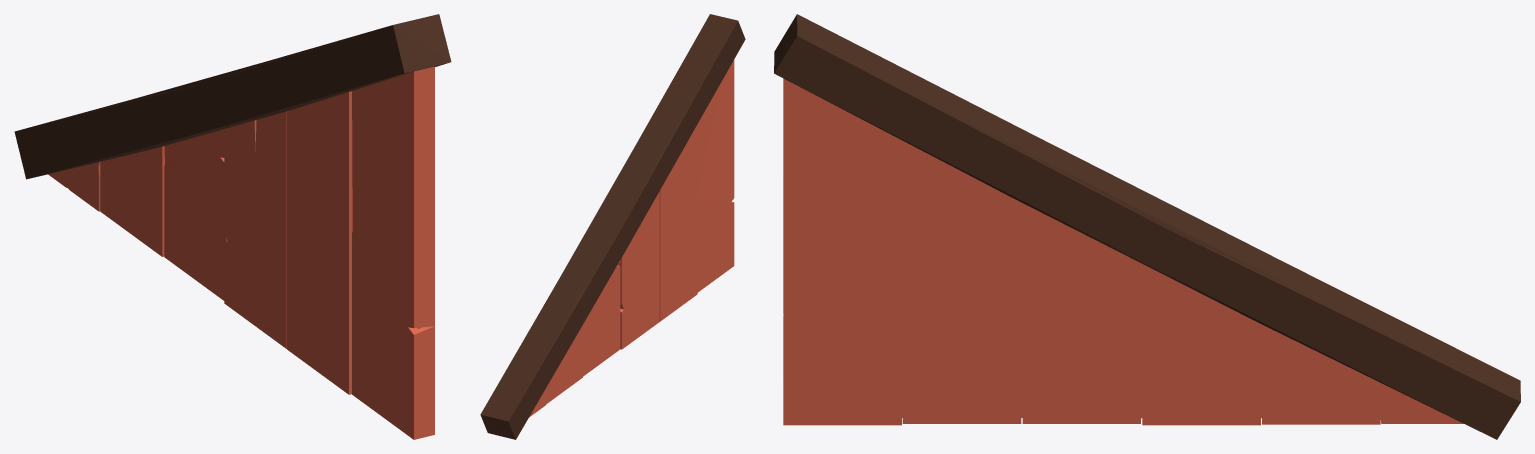
File: RoofAuxDecor.fbx
The picture shows the model from 3 angles, left to right: view 1: azimuth 30°, elevation 25°; view 2: azimuth 150°, elevation 25°; view 3: azimuth 270°, elevation 25°; orthographic projection. The views are drawn at different scales.
Parts seen in each view (by area): view 1: Door_02.003, Roof_02.001; view 2: Door_02.003, Roof_02.001; view 3: Door_02.003, Roof_02.001.
Part boxes in pixels (bbox=[...]): Door_02.003: bbox=[48, 66, 434, 439]; Roof_02.001: bbox=[14, 14, 451, 179]; Door_02.003: bbox=[529, 60, 734, 417]; Roof_02.001: bbox=[480, 14, 745, 439]; Door_02.003: bbox=[783, 78, 1463, 425]; Roof_02.001: bbox=[774, 14, 1520, 439].
Size of the model in its own units: 12.65 by 106 by 177.
